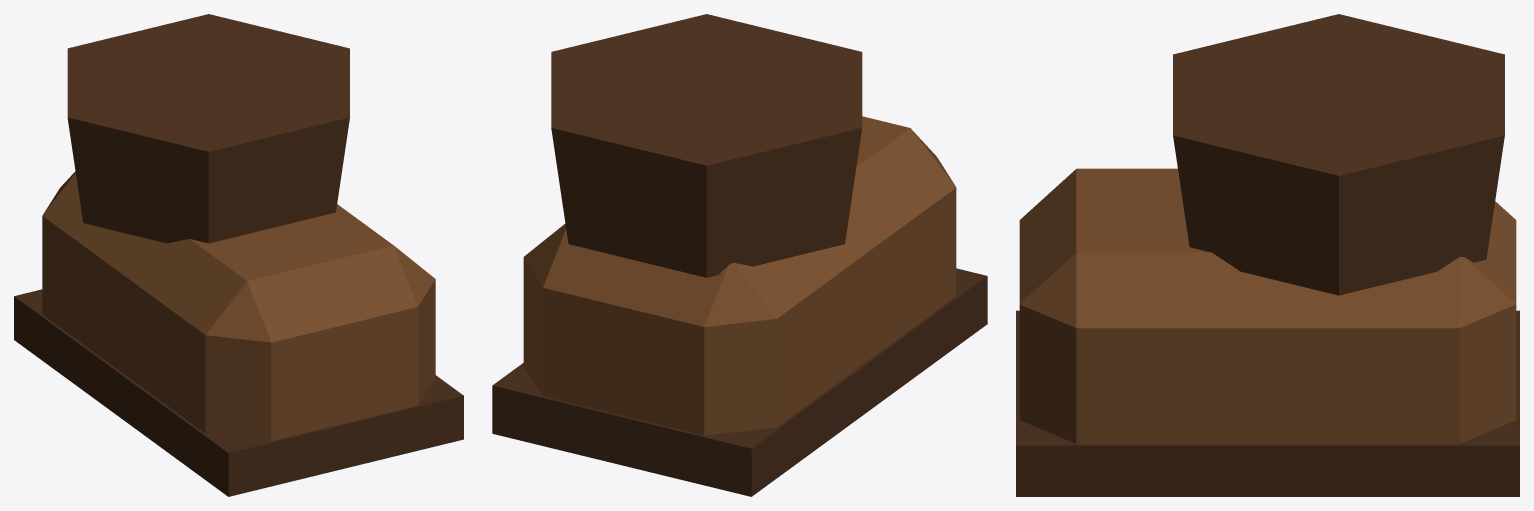
File: trail_boots.glb
3 renders of one model, left to right at view 1: azimuth 30°, elevation 25°; view 2: azimuth 150°, elevation 25°; view 3: azimuth 270°, elevation 25°, orthographic. The views are drawn at different scales.
Parts seen in each view (by area): view 1: trail_boots; view 2: trail_boots; view 3: trail_boots.
Boxes of the visible parts, x1=… form: trail_boots: x1=14, y1=14, x2=463, y2=496; trail_boots: x1=492, y1=14, x2=987, y2=496; trail_boots: x1=1016, y1=14, x2=1519, y2=496.
Size of the model in its own units: 0.27 by 0.26 by 0.355.
